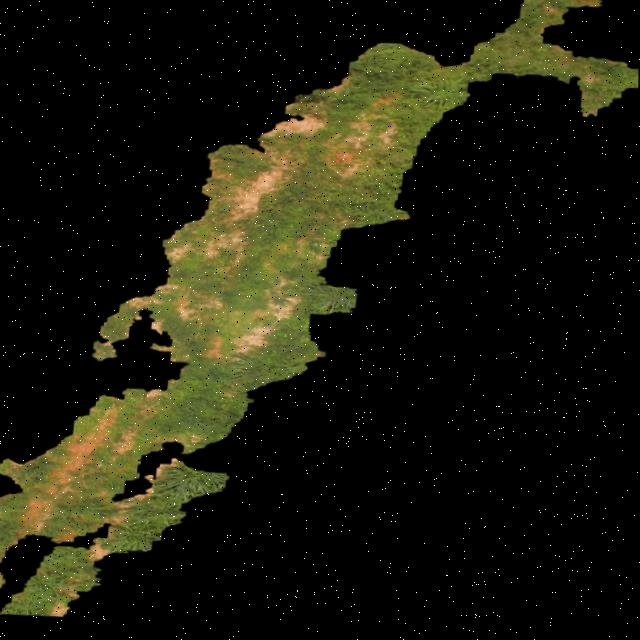Weed: (0, 0, 639, 617)
